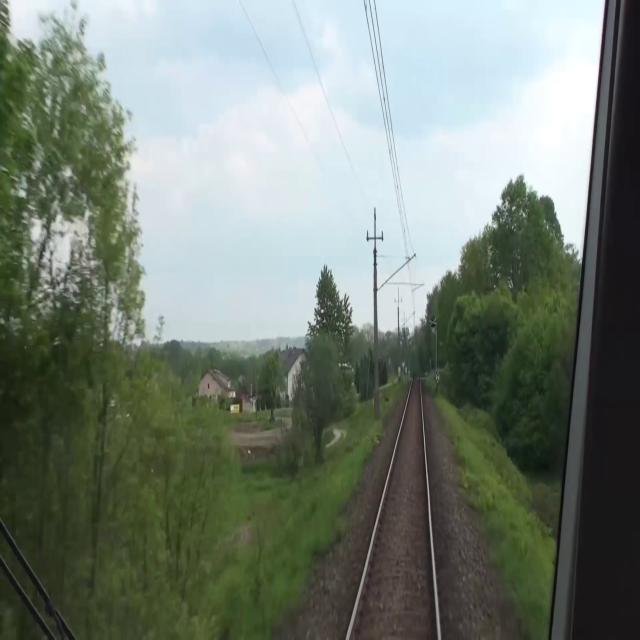rail-track: (350, 376, 436, 639)
